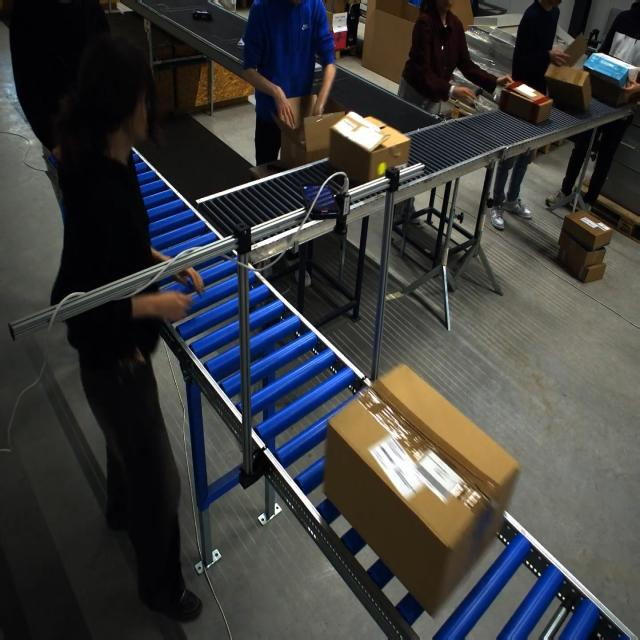box: (331, 379, 515, 616), (333, 112, 404, 186), (496, 80, 552, 125)
product: (192, 9, 213, 21)
